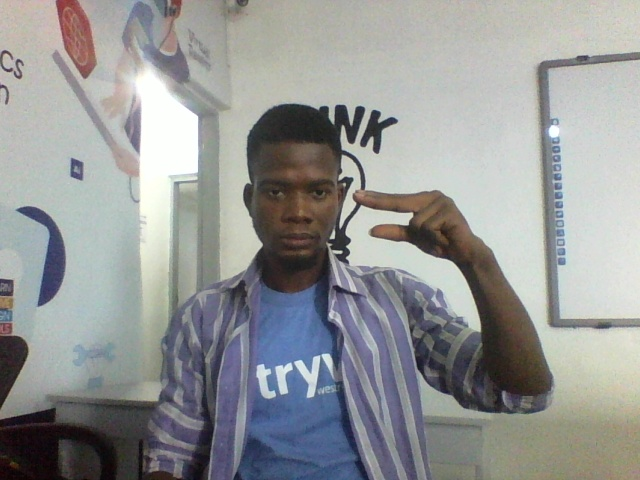no: (349, 184, 507, 274)
